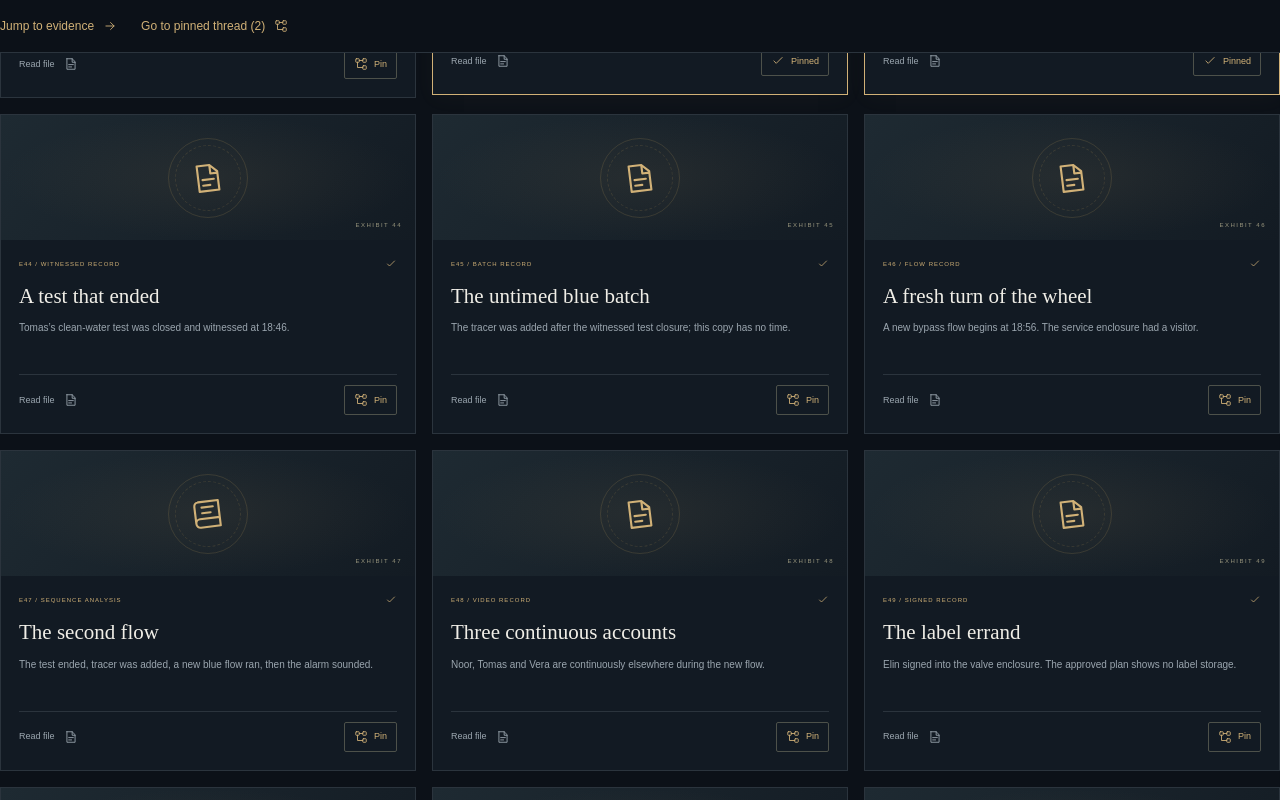
it: asks for an explanation only for a related thread and preserves wrong reasoning for revision
(page scrolled)
Expected: the element "What do these records establish?" is not shown
Click the button with aria-label "Pin A fresh turn of the wheel" at (1234, 400), box [1208, 386, 1261, 416]
(page scrolled)
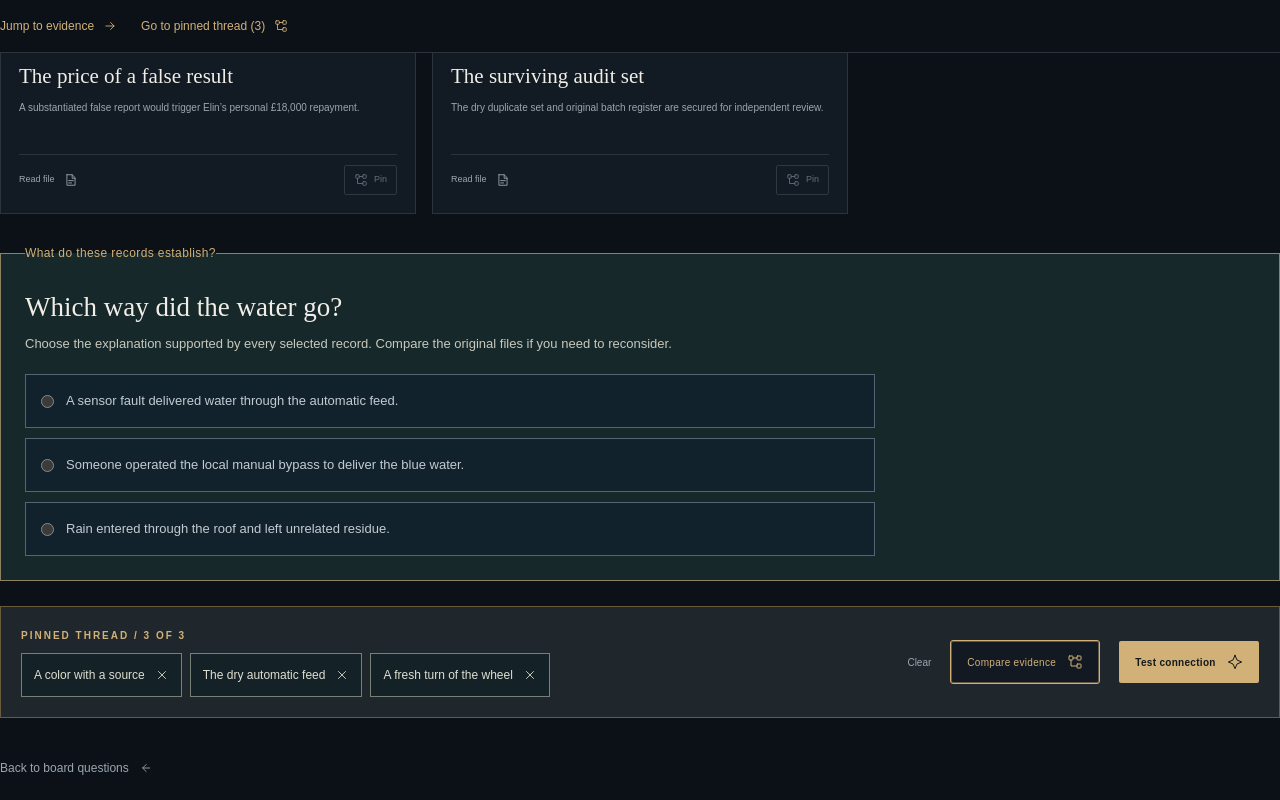
Expected: the element "What do these records establish?" is shown, [0, 244, 1279, 581]
Click the button "Test connection" at (1189, 662), box [1119, 642, 1259, 684]
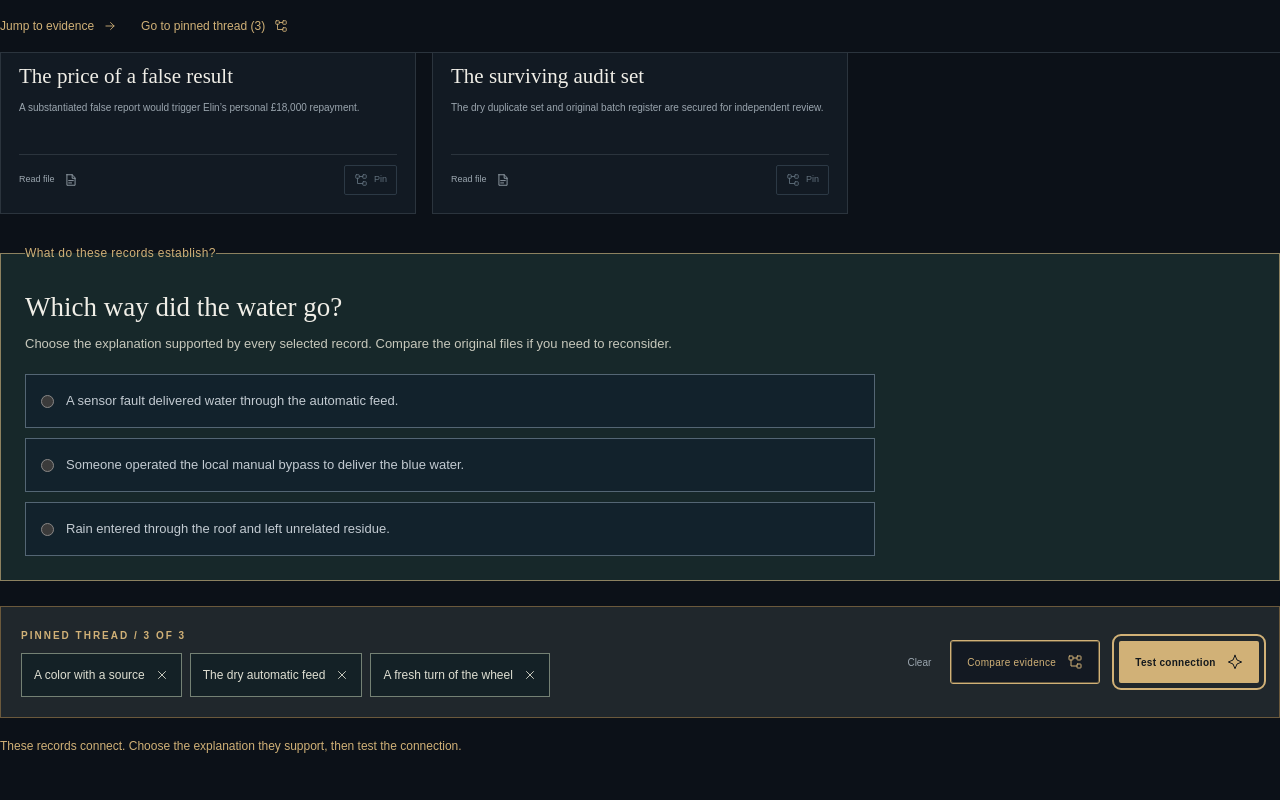
Expected: the message shows "Choose the explanation", [0, 740, 462, 754]
Click the radio button labelled "A sensor fault delivered water through the automatic feed." at (48, 402), box [41, 395, 54, 408]
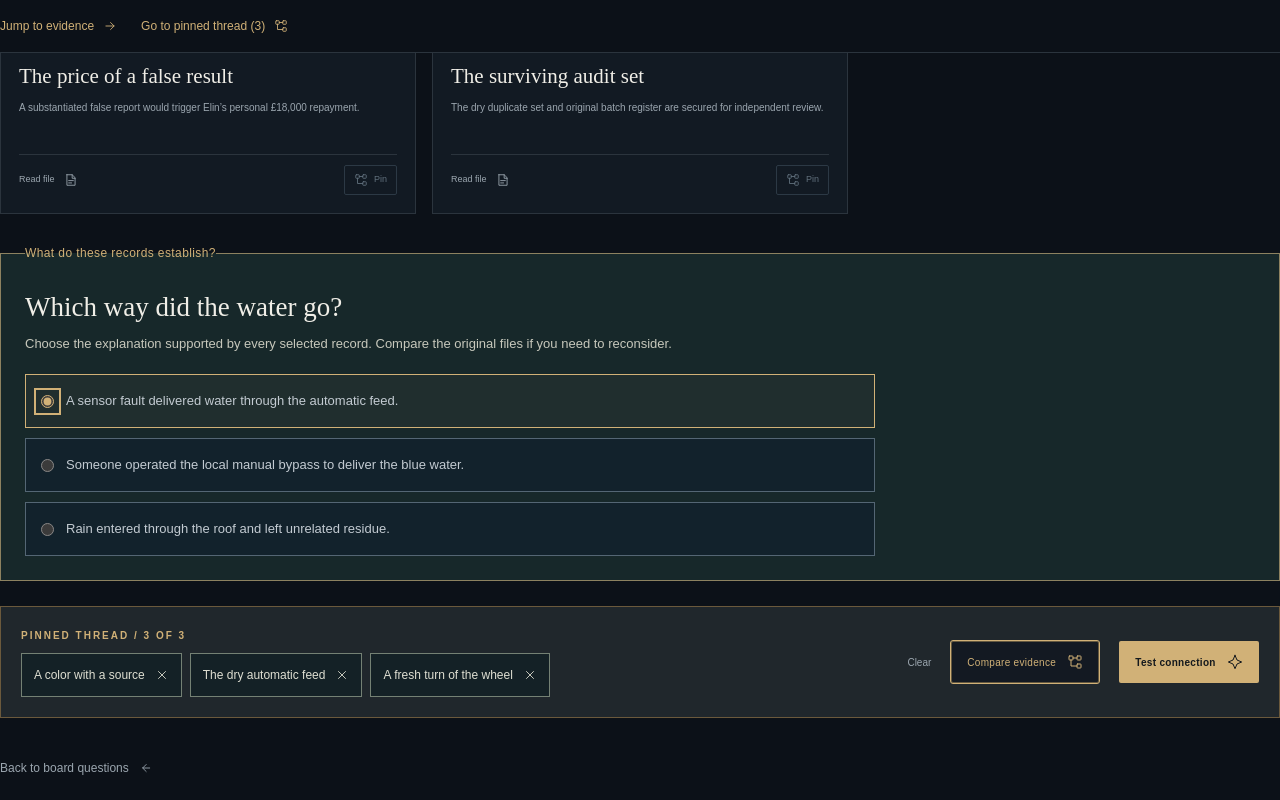
Click the button "Test connection" at (1189, 662), box [1119, 642, 1259, 684]
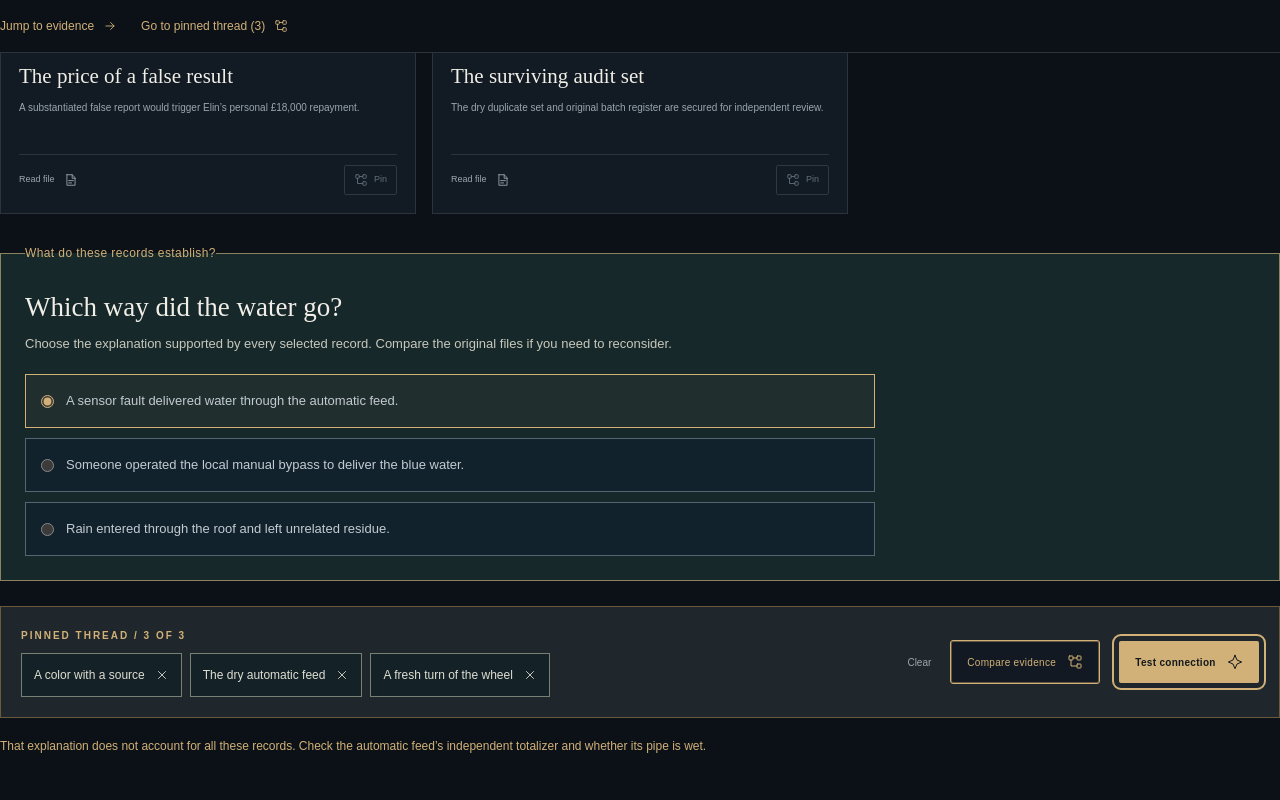
Expected: the message shows "does not account", [0, 740, 706, 754]
Click the radio button labelled "Someone operated the local manual bypass to deliver the blue water." at (48, 466), box [41, 459, 54, 472]
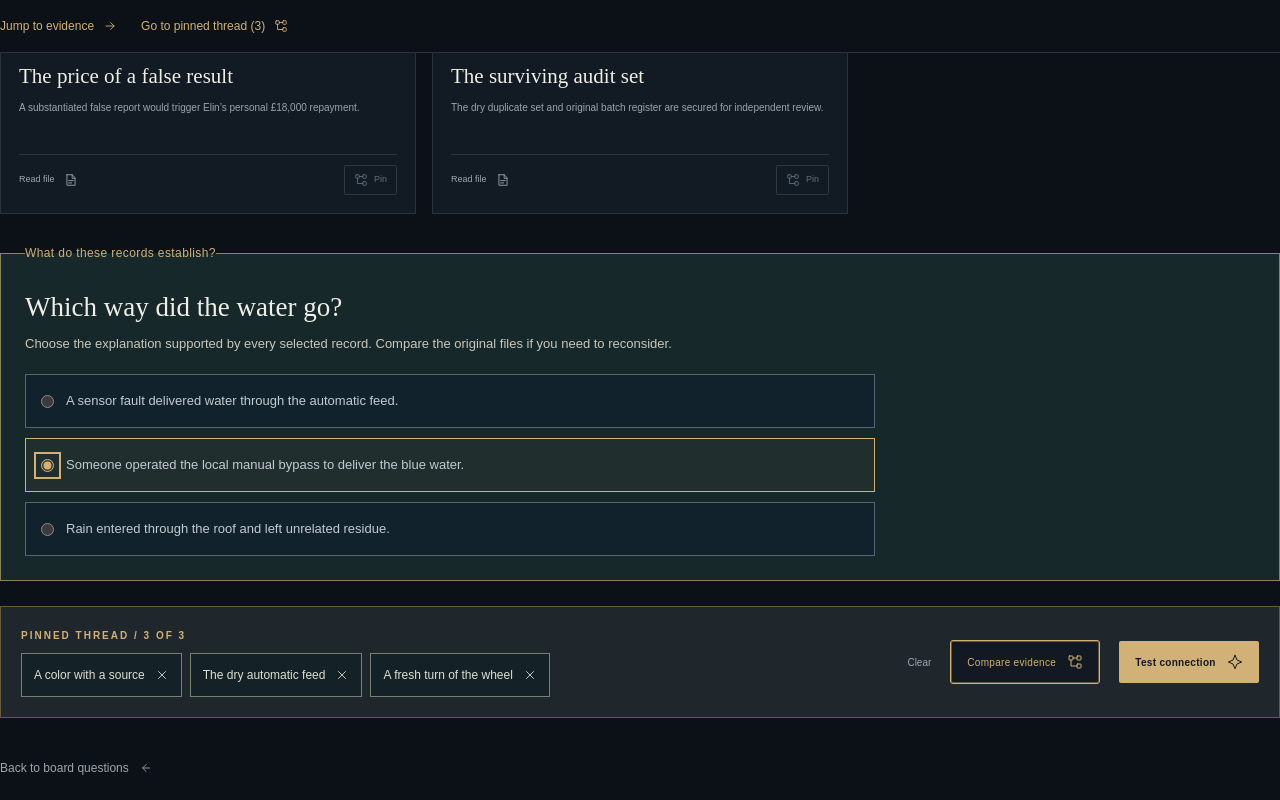
Click the button "Test connection" at (1189, 662), box [1119, 642, 1259, 684]
(page scrolled)
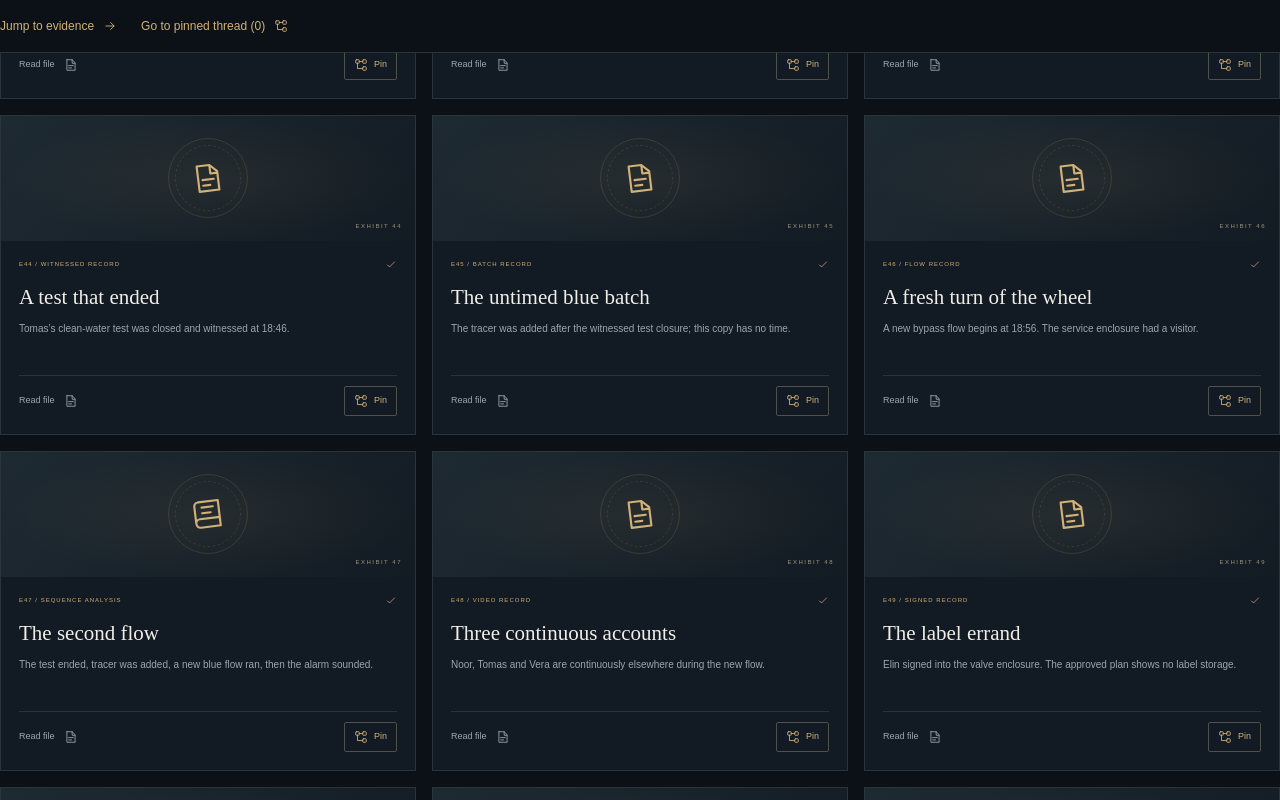
Expected: the button with aria-label "Pin A fresh turn of the wheel" is enabled, [1208, 386, 1261, 416]
Expected: the text "What do these records establish?" is gone
